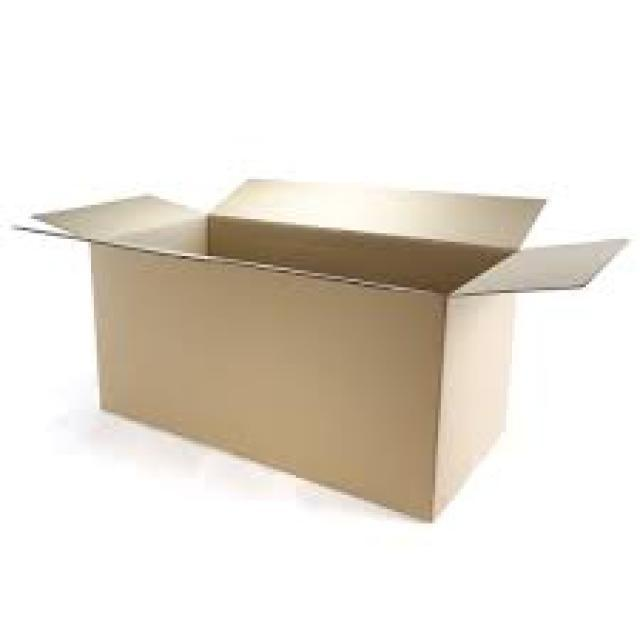Cardboard: (33, 176, 620, 523)
